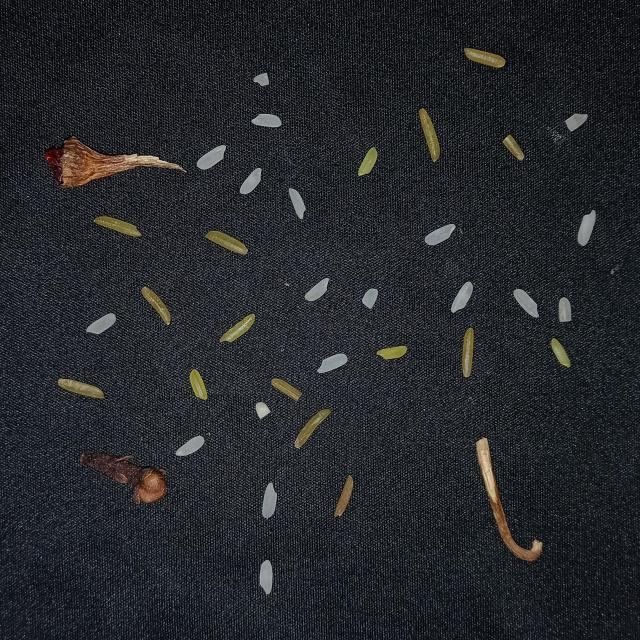Broken: (294, 408, 332, 448), (142, 286, 172, 326), (419, 108, 440, 163), (206, 229, 248, 256), (219, 313, 255, 343), (57, 378, 105, 400), (94, 216, 142, 238), (334, 476, 354, 518), (464, 48, 505, 68), (271, 378, 302, 402), (462, 328, 474, 378), (551, 338, 571, 368), (358, 146, 378, 176), (190, 369, 208, 400), (503, 134, 524, 160), (377, 346, 407, 360), (565, 114, 588, 132), (558, 297, 572, 322), (362, 288, 378, 309), (256, 402, 271, 419), (253, 72, 270, 86)
Full: (513, 288, 540, 318), (196, 144, 226, 170), (424, 223, 456, 246), (451, 281, 473, 313), (577, 210, 596, 246), (87, 312, 116, 335), (317, 353, 348, 373), (304, 278, 329, 302), (240, 168, 262, 195), (262, 482, 278, 518), (176, 436, 204, 456), (289, 188, 306, 220), (259, 559, 273, 595), (252, 113, 282, 127)
